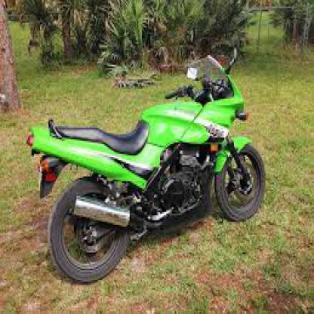Motocicleta: (21, 41, 270, 282)
